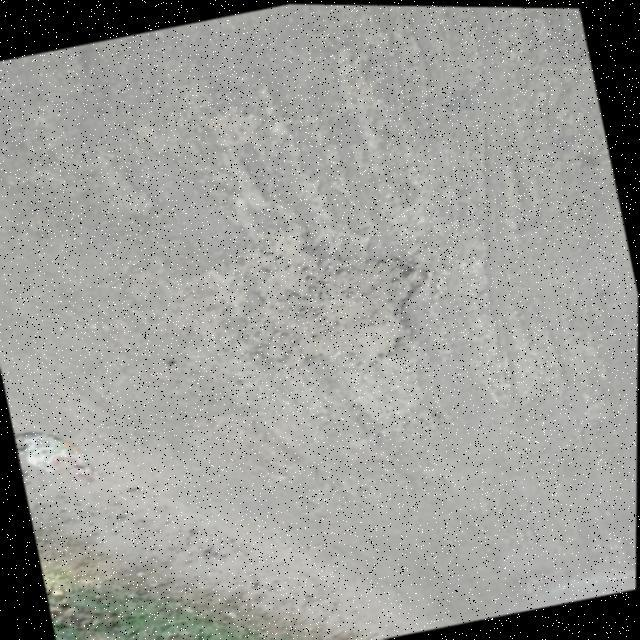pothole: (222, 187, 456, 394)
